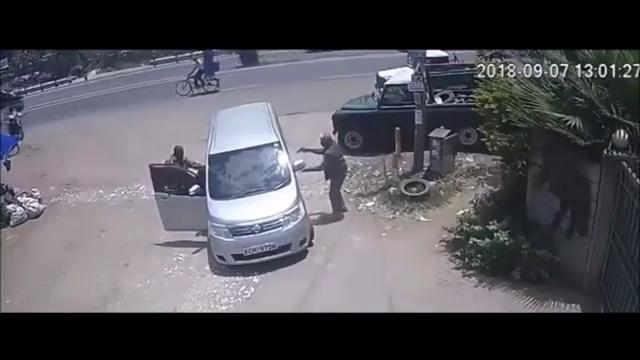weapon: (295, 145, 306, 153)
